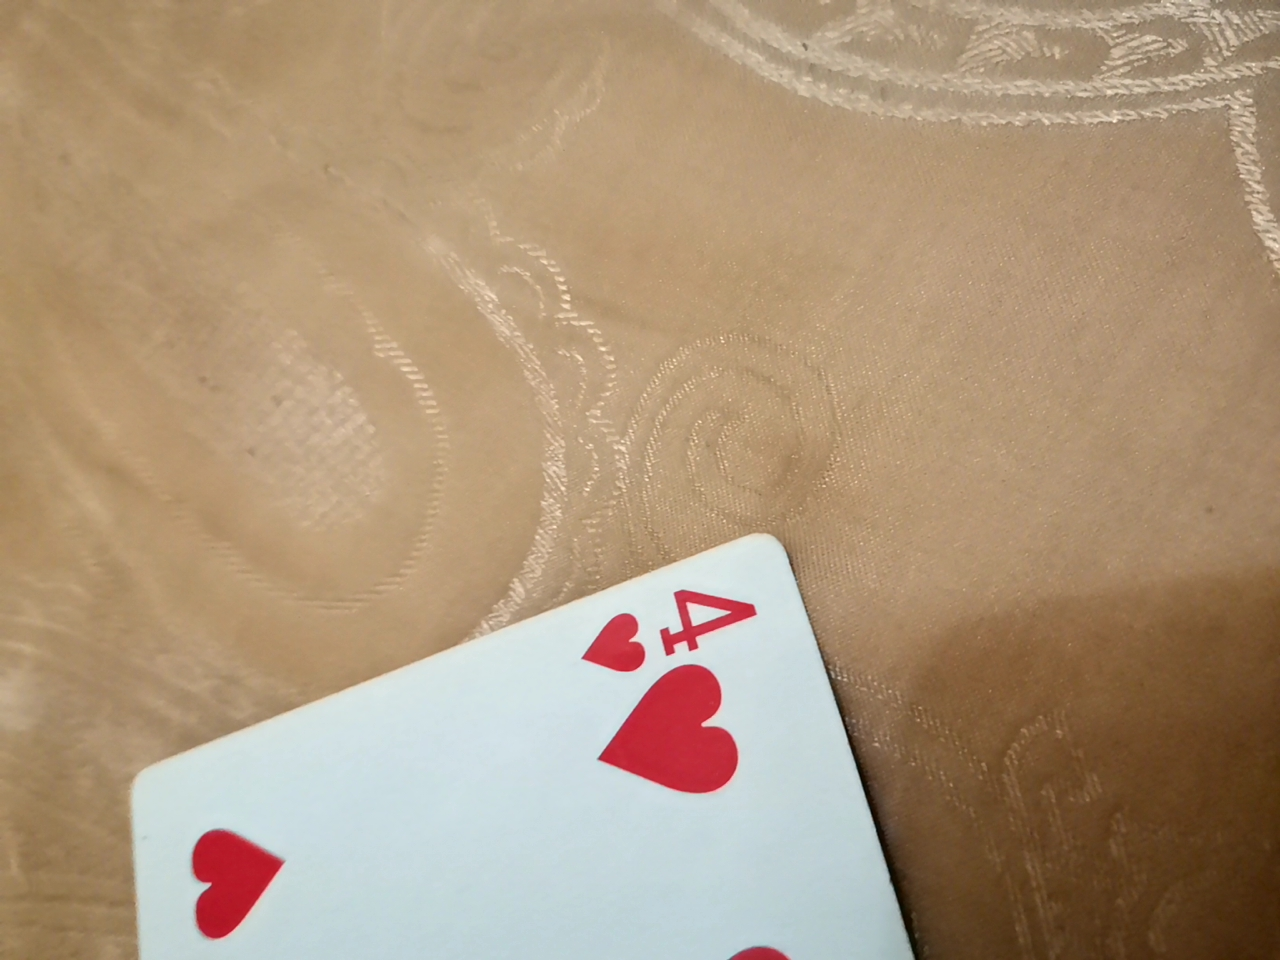hx 4: (112, 520, 1003, 947)
